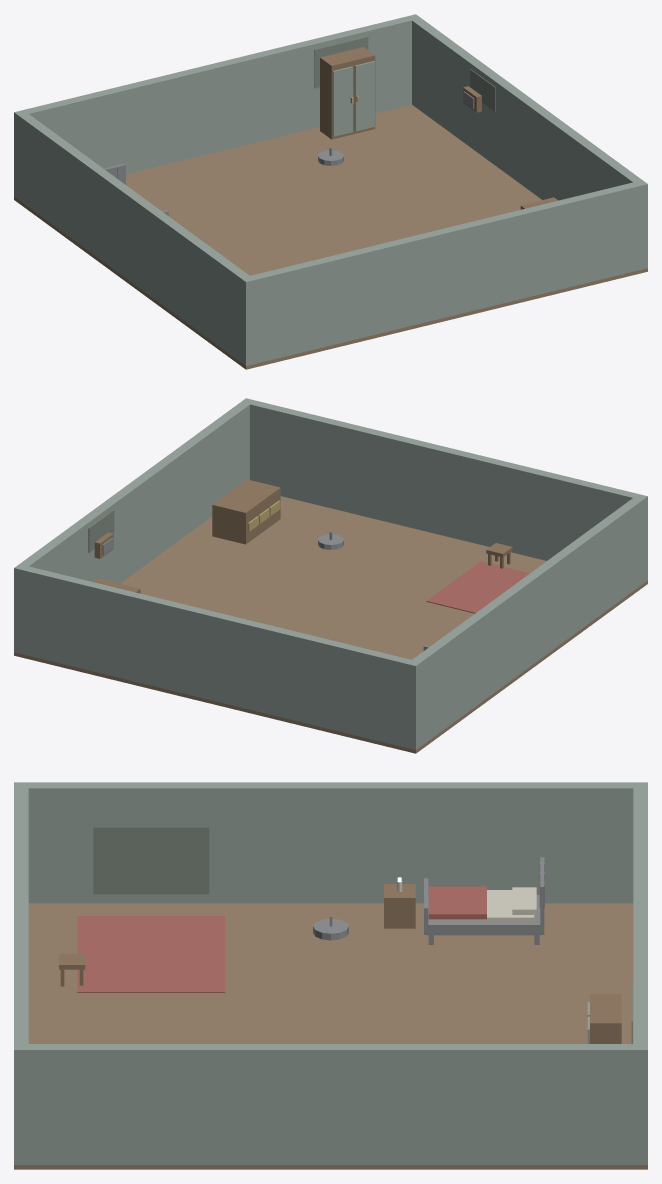
Rendered from room_bedroom.glb.
The picture shows the model from 3 angles, top to bottom: view 1: azimuth 30°, elevation 25°; view 2: azimuth 150°, elevation 25°; view 3: azimuth 270°, elevation 25°; orthographic projection. The views are drawn at different scales.
Parts seen in each view (by area): view 1: Floor, Wall_S_A, Wall_S_B, Wall_N_A, Wall_N_B, Wall_W_A, Wall_W_B, Wall_E_B, Plug_S, Plug_N, Wall_E_A, Plug_W (+10 smaller); view 2: Floor, Wall_N_A, Wall_N_B, Wall_S_B, Wall_S_A, Wall_W_A, Wall_W_B, Wall_E_A, Plug_N, Plug_S, Plug_W, Plug_E (+8 smaller); view 3: Floor, Wall_E_A, Wall_E_B, Wall_W_B, Wall_W_A, Plug_E, Plug_W, NoCol_Rug, NoCol_Grime_1, Wall_N_B, Wall_S_B, Wall_E_L (+12 smaller).
Part boxes in pixels (x1,y1,x2,y2): Floor: [14, 104, 647, 369]; Wall_S_A: [240, 240, 403, 366]; Wall_S_B: [485, 180, 647, 306]; Wall_N_A: [14, 74, 176, 199]; Wall_N_B: [259, 14, 420, 140]; Wall_W_A: [155, 213, 249, 361]; Wall_W_B: [19, 114, 113, 262]; Wall_E_B: [412, 18, 506, 166]; Plug_S: [403, 233, 490, 327]; Plug_N: [177, 67, 263, 161]; Wall_E_A: [547, 117, 641, 200]; Plug_W: [105, 189, 155, 299]; Floor: [14, 496, 647, 753]; Wall_N_A: [258, 624, 421, 750]; Wall_N_B: [14, 564, 176, 690]; Wall_S_B: [241, 398, 402, 524]; Wall_S_A: [485, 458, 647, 583]; Wall_W_A: [548, 498, 642, 646]; Wall_W_B: [412, 597, 506, 745]; Wall_E_A: [155, 402, 249, 550]; Plug_N: [171, 617, 258, 711]; Plug_S: [398, 451, 484, 545]; Plug_W: [506, 573, 556, 683]; Plug_E: [114, 477, 164, 583]; Floor: [14, 903, 647, 1169]; Wall_E_A: [28, 1044, 262, 1164]; Wall_E_B: [399, 1044, 633, 1164]; Wall_W_B: [399, 782, 633, 903]; Wall_W_A: [28, 782, 262, 903]; Plug_E: [262, 1064, 399, 1164]; Plug_W: [262, 802, 399, 903]; NoCol_Rug: [77, 916, 225, 992]; NoCol_Grime_1: [93, 827, 209, 894]; Wall_N_B: [633, 945, 647, 1164]; Wall_S_B: [14, 945, 28, 1164]; Wall_E_L: [262, 1044, 399, 1064].
Bounding box in the file's own units: 12 × 2.5 × 12.
